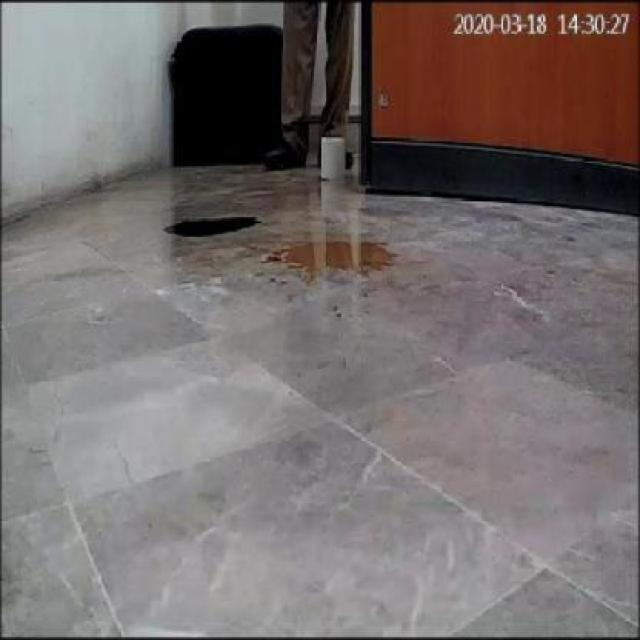spillage: (266, 241, 399, 274), (163, 217, 260, 237)
